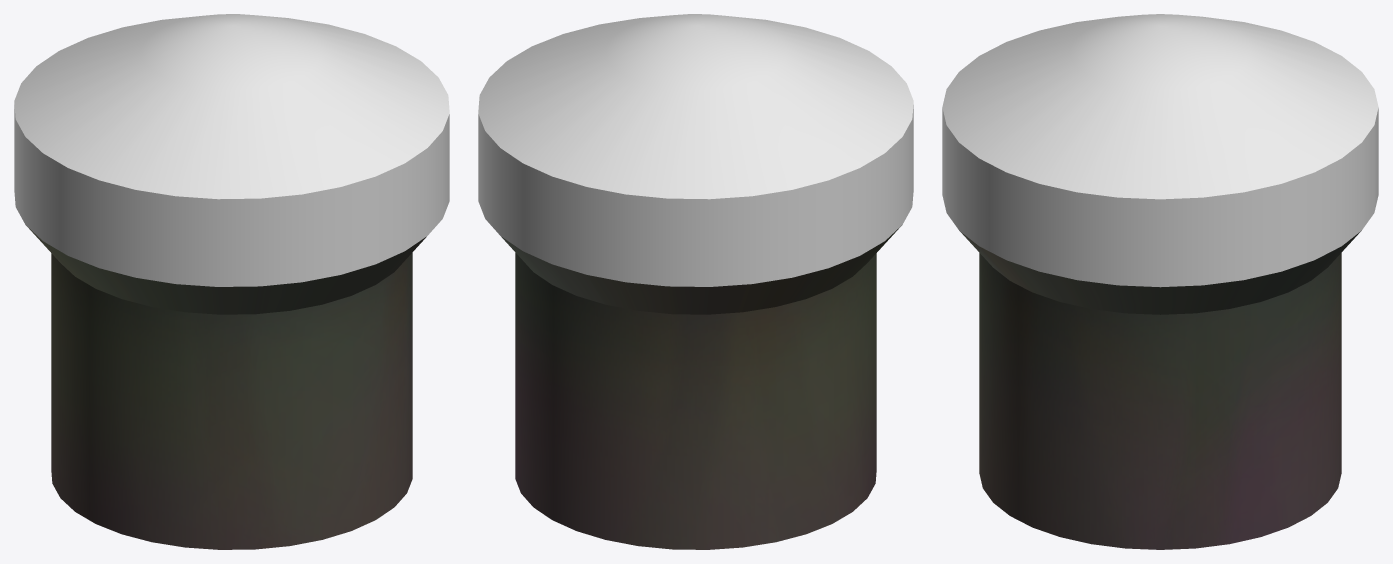
File: Forge.fbx
3 renders of one model, left to right at view 1: azimuth 30°, elevation 25°; view 2: azimuth 150°, elevation 25°; view 3: azimuth 270°, elevation 25°, orthographic.
Visible parts, largest first — view 1: Cylinder; view 2: Cylinder; view 3: Cylinder.
Part boxes in pixels (<box>): Cylinder: <box>14,14,449,549</box>; Cylinder: <box>478,14,913,549</box>; Cylinder: <box>942,14,1378,549</box>.
Size of the model in its own units: 112 by 127 by 112.
